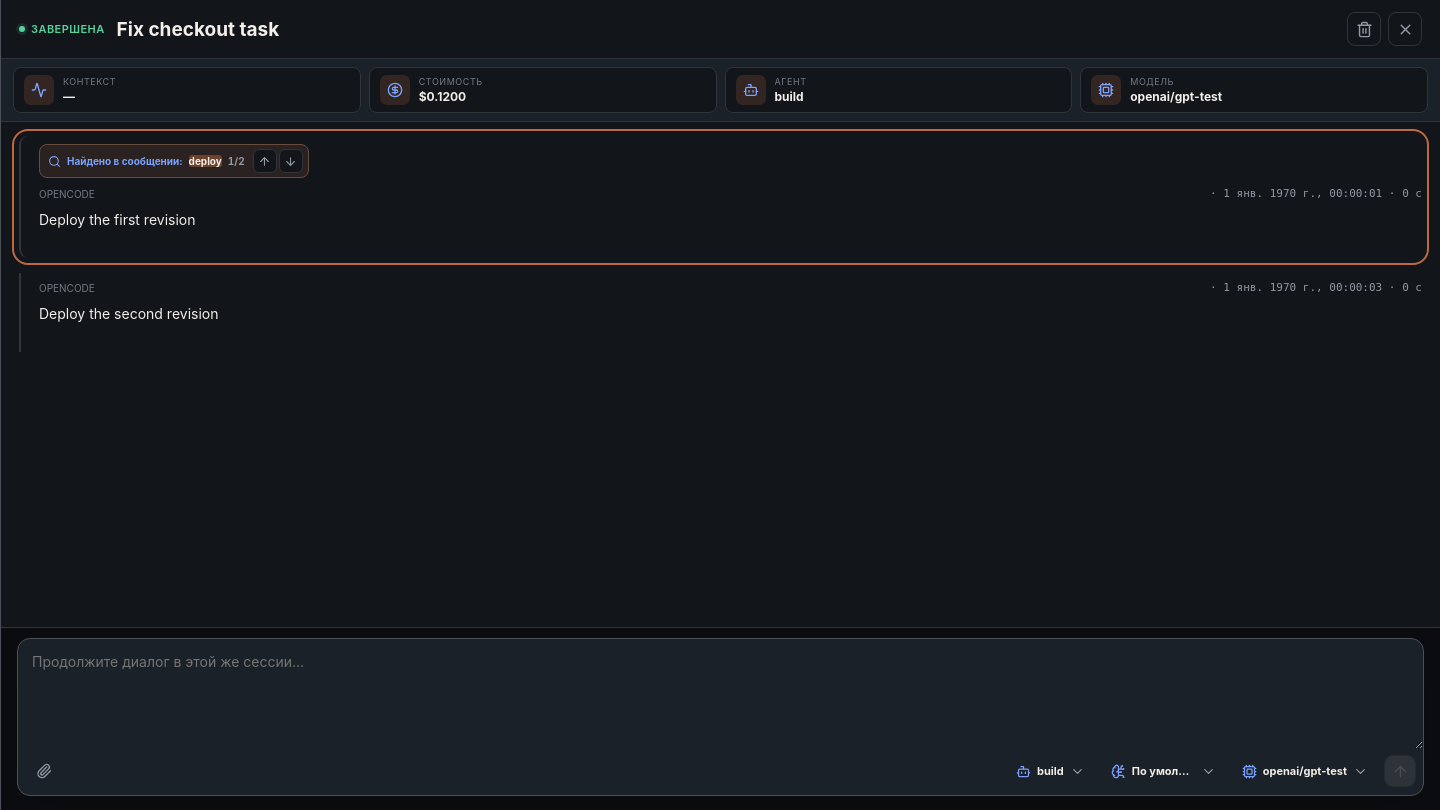
it: OpenCode Control › restores a message deep link and moves between matching messages
Check: the text "1/2" is shown, box [228,155,245,167]
Click the button named "Следующее совпадение" at coordinates (291, 161), box [279,149,303,173]
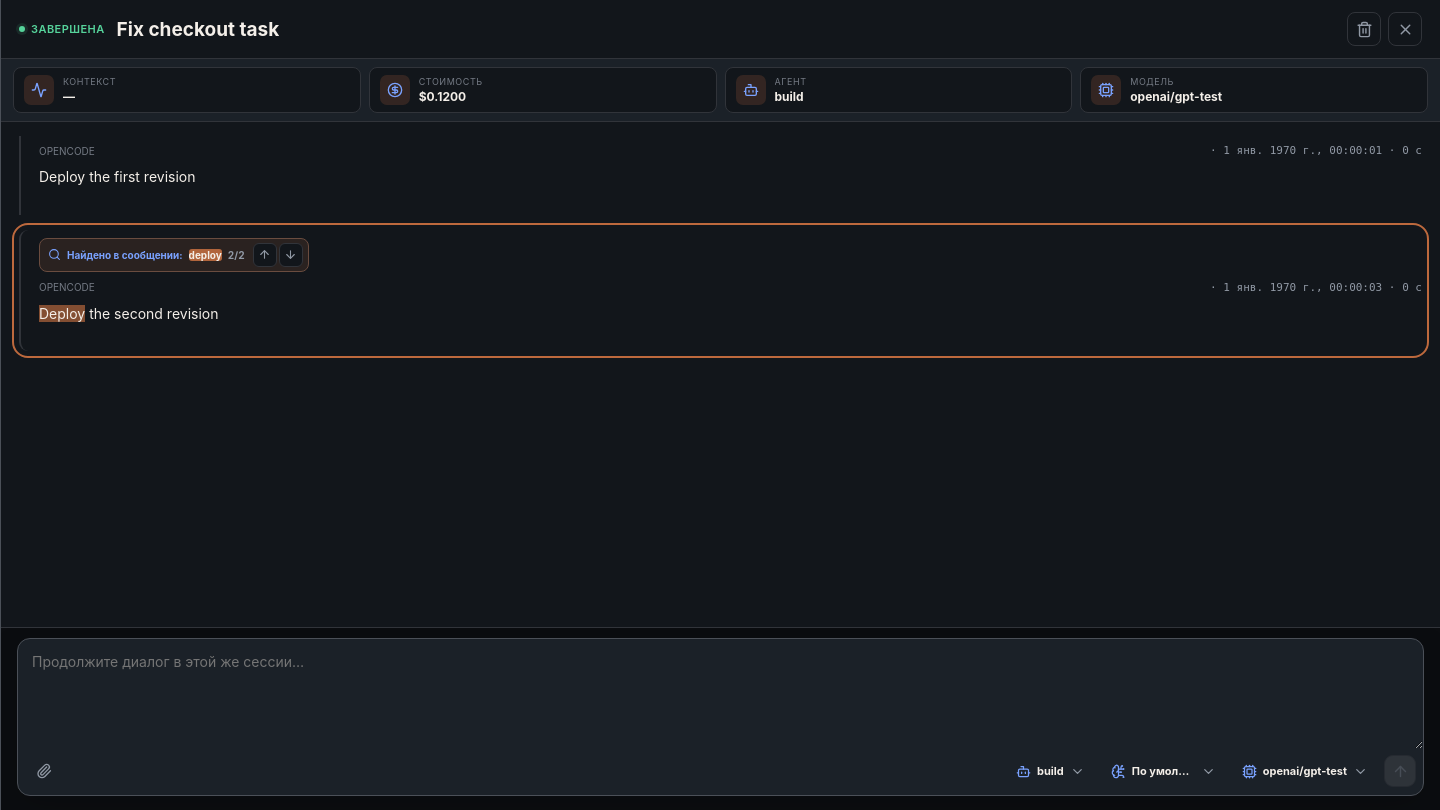
Check: the text "2/2" is shown, box [228,248,245,260]
